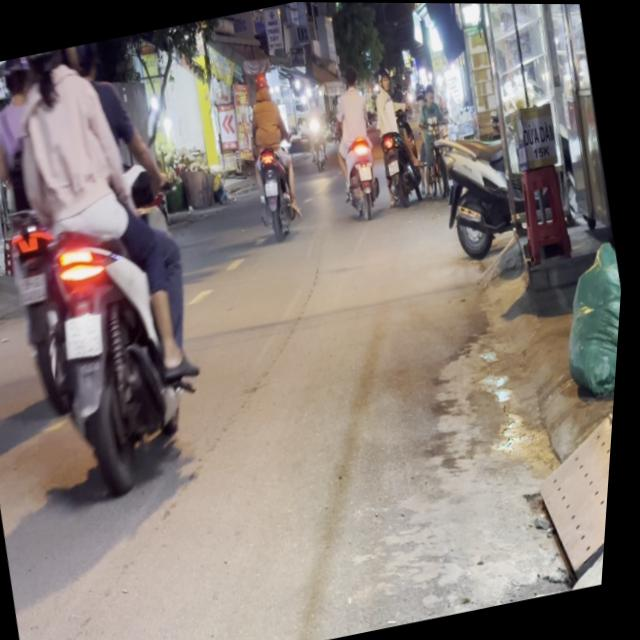helmet: (19, 48, 62, 89), (0, 55, 35, 101), (67, 40, 102, 82), (249, 70, 271, 100)
licenseplate: (0, 28, 244, 501), (0, 51, 117, 416), (230, 66, 314, 240)
nohelmet: (62, 310, 109, 359), (18, 270, 51, 303)
